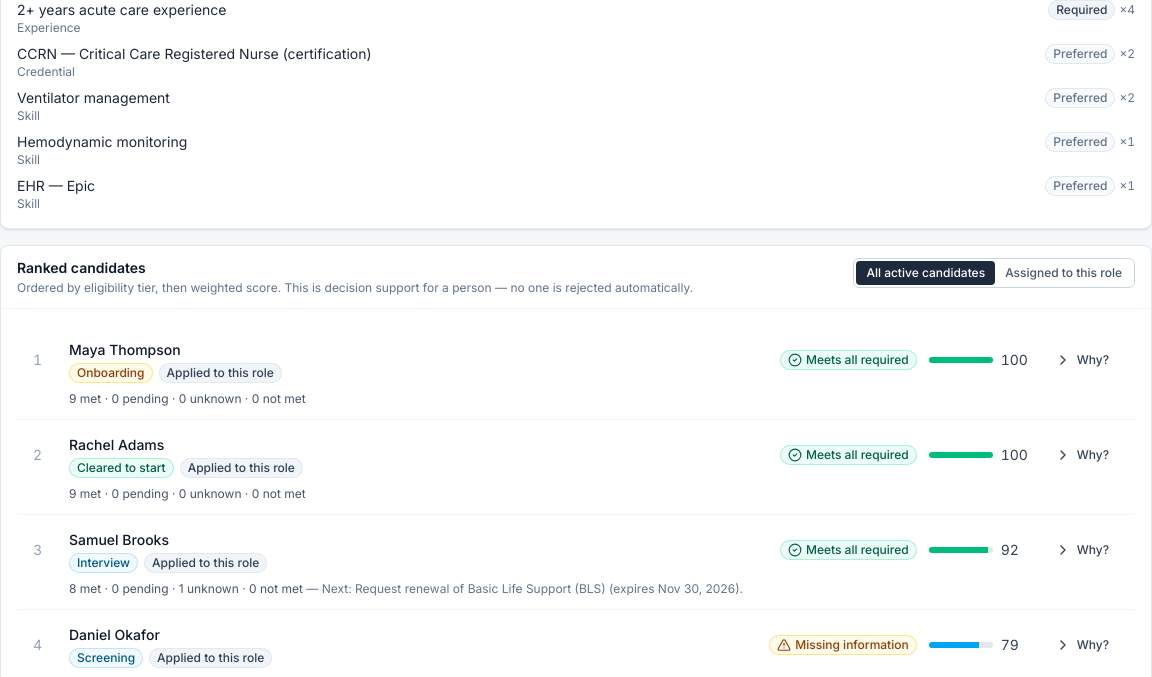
Scenario: job matching › ranks eligible candidates before ineligible ones and explains on demand
This screenshot has width=1152, height=677.
(page scrolled)
Expected: the heading "Ranked candidates" is shown, [17,259,146,276]
Step 1. Click the button "Why?" in the row of "Maya Thompson" → (1082, 360), box [1045,344,1119,376]
(page scrolled)
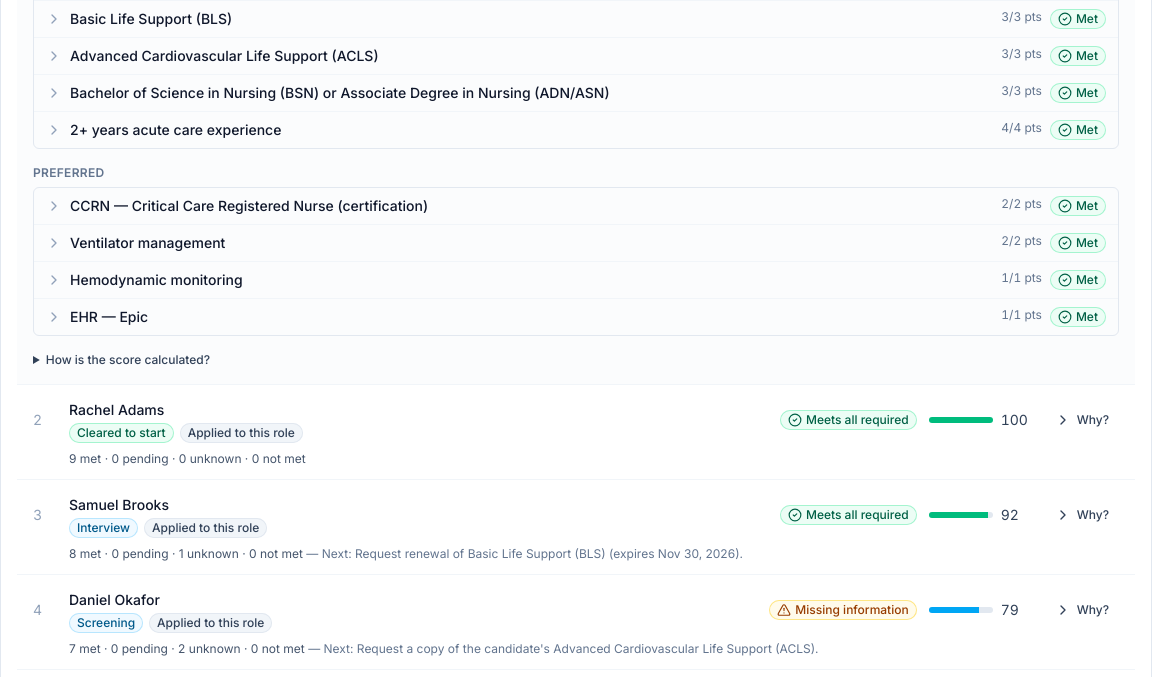
Now the heading "How is the score calculated?" is shown, box [46,352,210,367]
